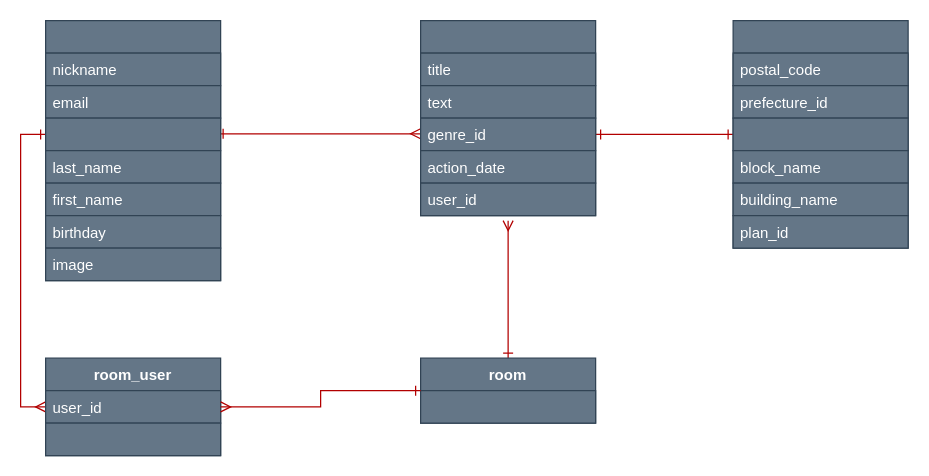
The diagram is 929 pixels wide and 476 high, and some of its shapes have lost their labels. The shapes that lost their labels are listed below. From the top down, each one's box as (x1, y1, x2, y2) in pixels, then its label:
(44, 117, 221, 151): password
(419, 19, 596, 216): plan
(732, 19, 908, 248): address
(732, 117, 908, 151): city_name
(44, 19, 221, 281): user
(419, 389, 596, 423): name
(44, 422, 221, 456): room_id
